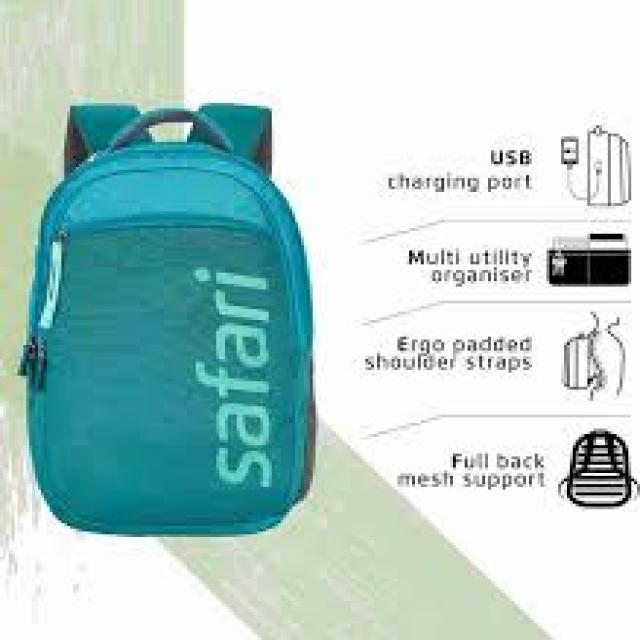backpack: (14, 100, 316, 537)
